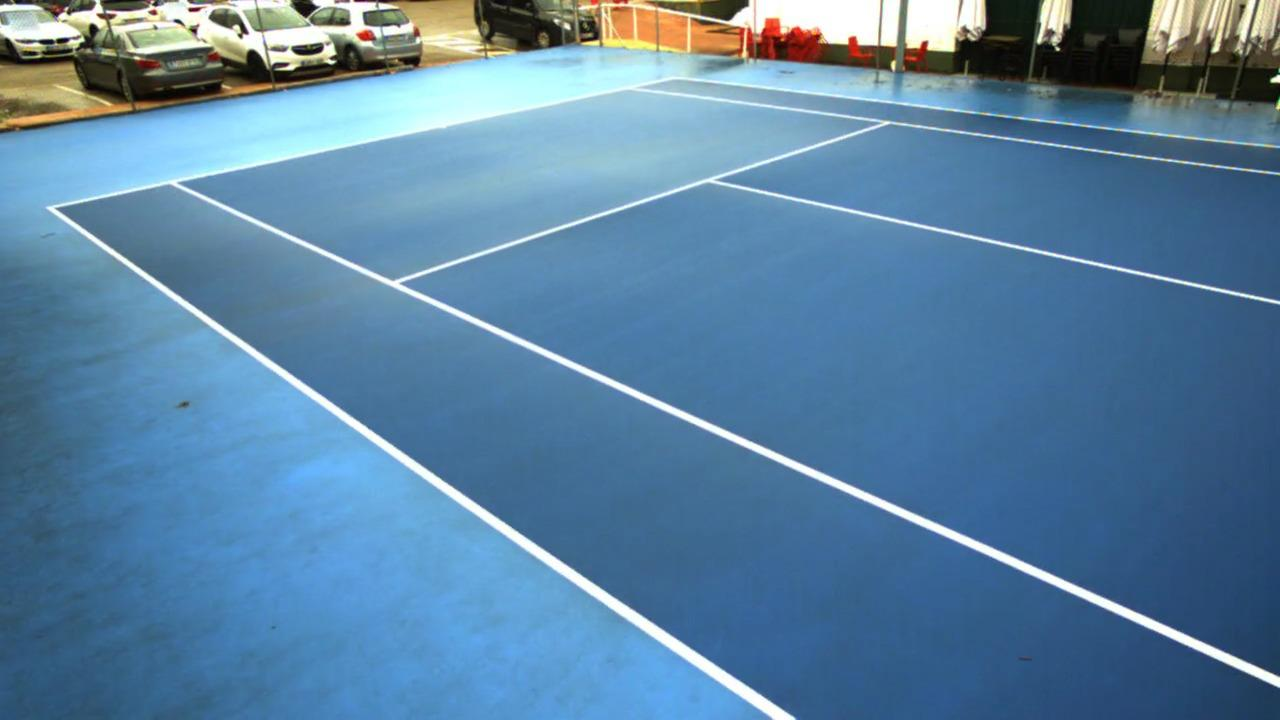cancha_tenis: (170, 88, 1280, 720)
point_f1: (162, 169, 187, 194)
point_f2: (616, 78, 645, 98)
point_fc1: (436, 123, 452, 133)
point_i1: (378, 268, 415, 295)
point_i2: (872, 111, 905, 134)
point_ic1: (697, 171, 727, 192)
